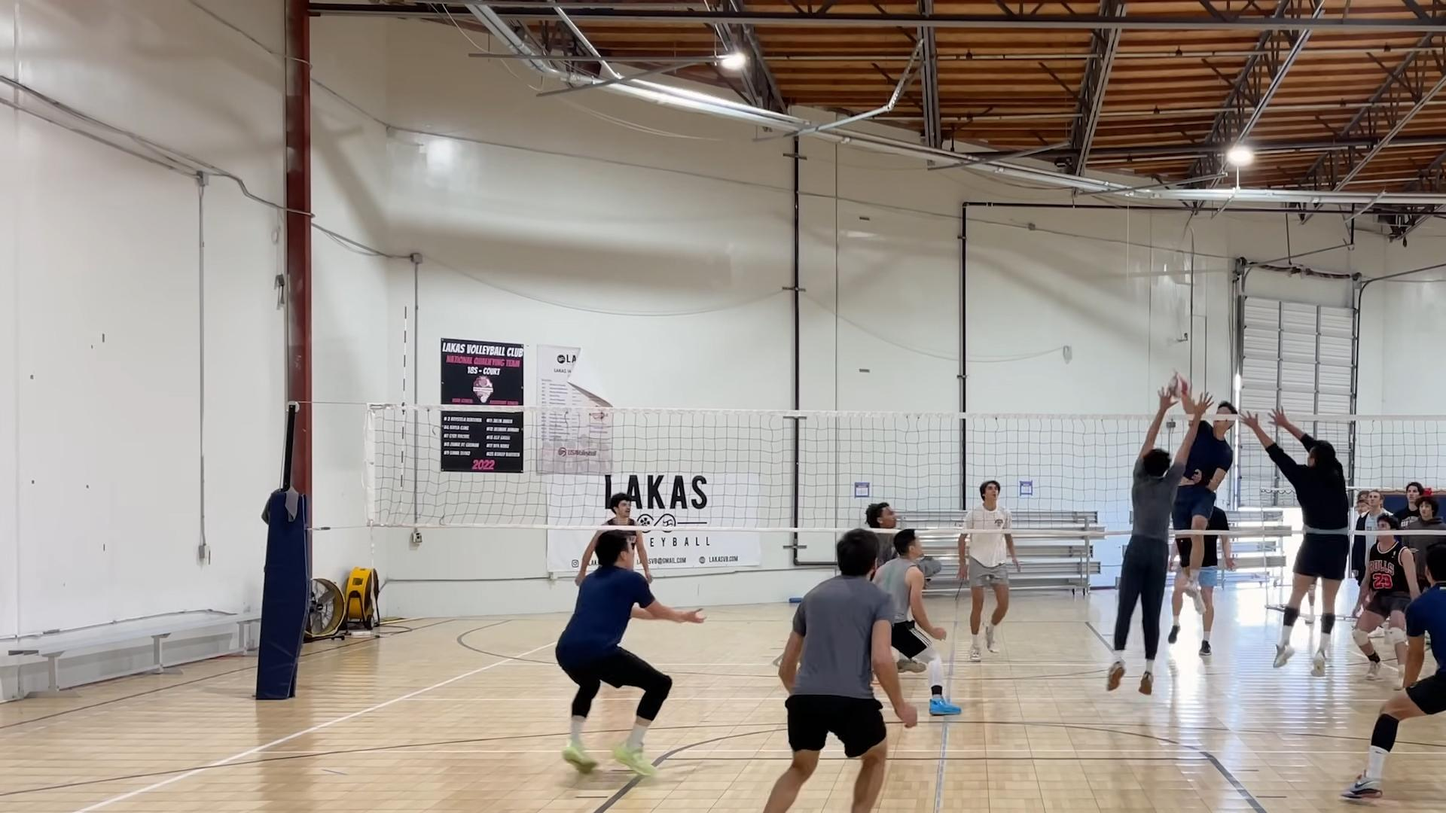Attack: (1241, 403, 1353, 682), (1172, 373, 1237, 605)
Block: (1108, 381, 1213, 698)
Player: (764, 528, 917, 812), (555, 531, 703, 775), (1342, 546, 1445, 799), (874, 529, 959, 715), (958, 480, 1020, 661), (1353, 513, 1420, 679), (1196, 507, 1235, 656), (627, 531, 652, 583), (880, 529, 915, 561), (865, 502, 897, 531)
